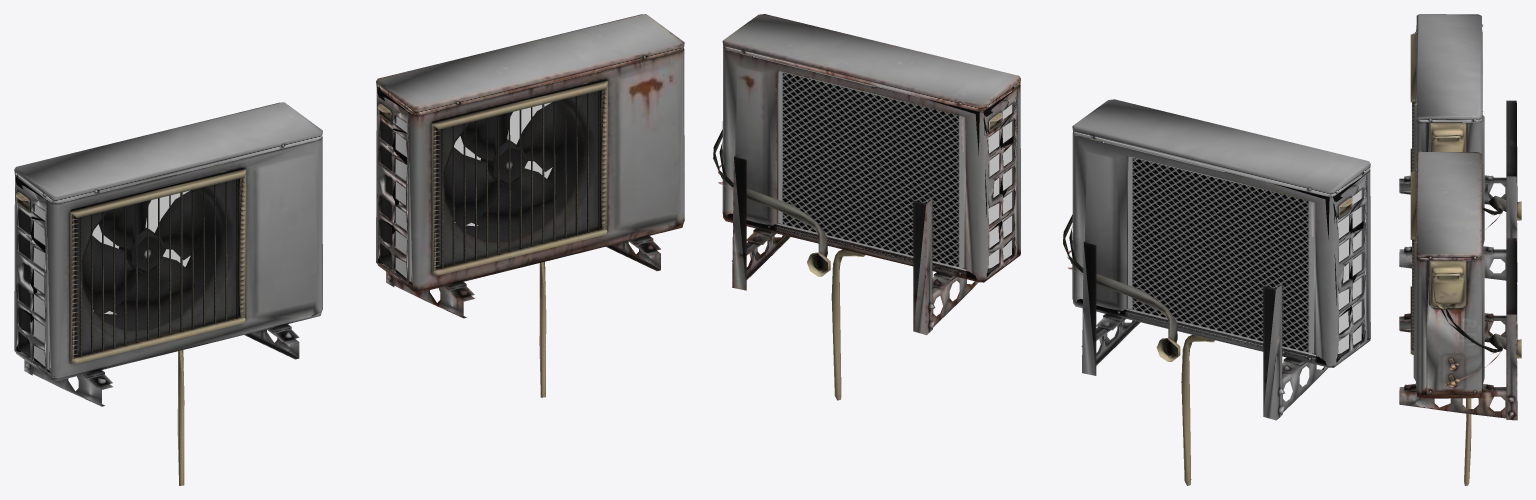
File: exterior_aircon_unit.glb
3 renders of one model, left to right at view 1: azimuth 30°, elevation 25°; view 2: azimuth 150°, elevation 25°; view 3: azimuth 270°, elevation 25°, orthographic. The views are drawn at different scales.
Visible parts, largest first — view 1: exterior_aircon_unit_rusted, exterior_aircon_unit; view 2: exterior_aircon_unit, exterior_aircon_unit_rusted; view 3: exterior_aircon_unit_rusted, exterior_aircon_unit.
Part boxes in pixels (x1,y1,x2,y2): exterior_aircon_unit_rusted: [376, 14, 684, 397]; exterior_aircon_unit: [14, 102, 322, 485]; exterior_aircon_unit: [1063, 99, 1370, 485]; exterior_aircon_unit_rusted: [713, 14, 1020, 400]; exterior_aircon_unit_rusted: [1399, 151, 1521, 485]; exterior_aircon_unit: [1399, 14, 1521, 282].
Bounding box in the file's own units: 1.8 × 0.9279 × 0.3742.
4 materials, 4 textured.
